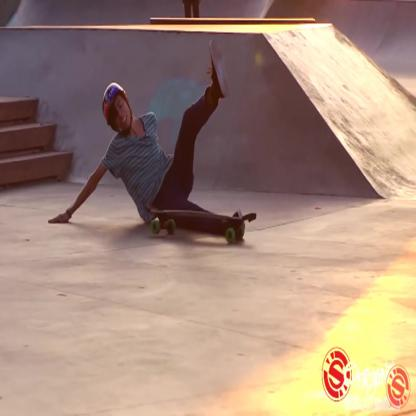Fall_Down: (46, 37, 249, 242)
